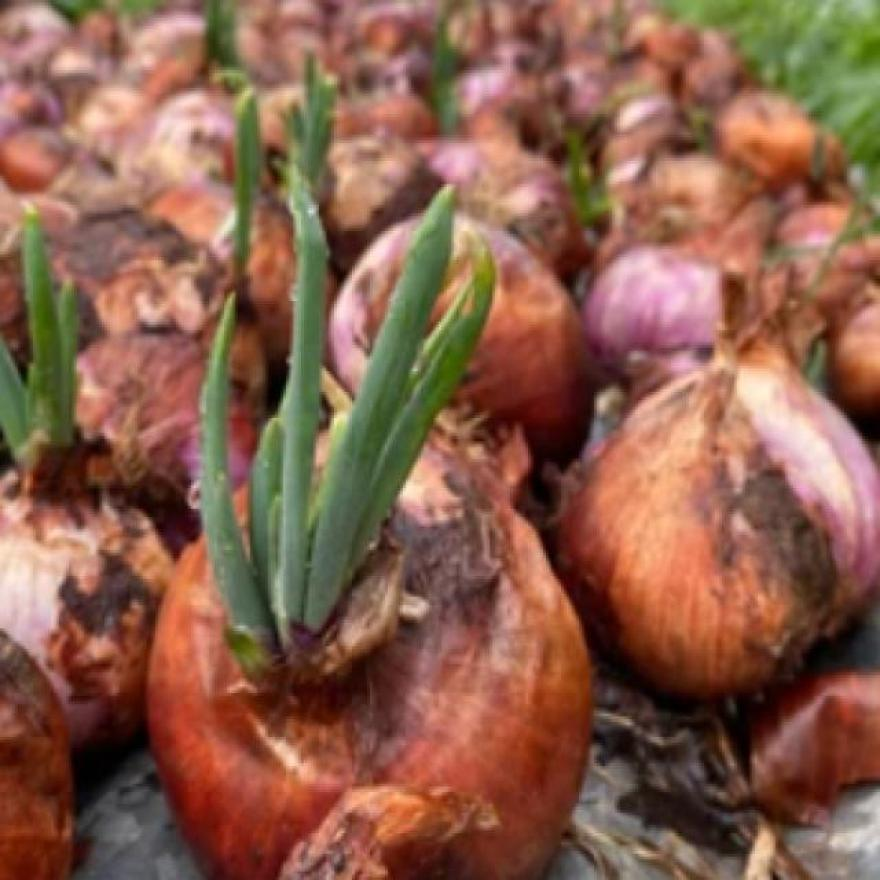Sprouted: (170, 357, 421, 687)
